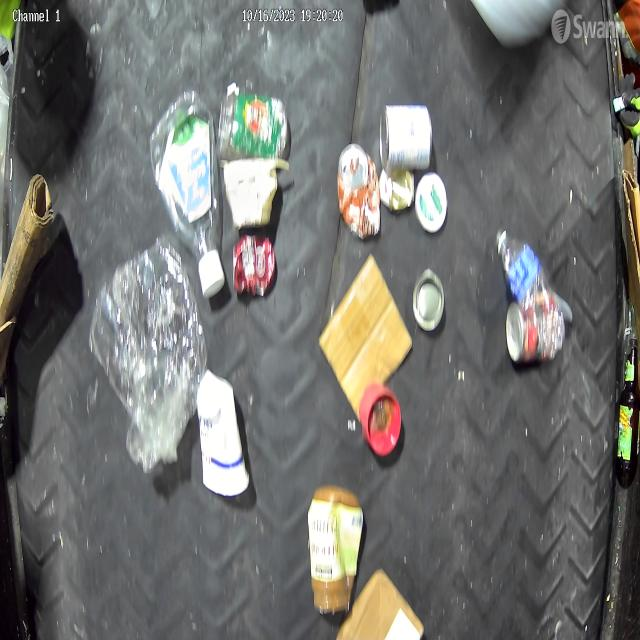can: (336, 141, 383, 242), (505, 290, 561, 369), (377, 101, 434, 173), (230, 233, 278, 298), (411, 268, 446, 333), (378, 168, 416, 213)
plastic_bottle: (147, 88, 226, 299), (494, 224, 552, 302)
